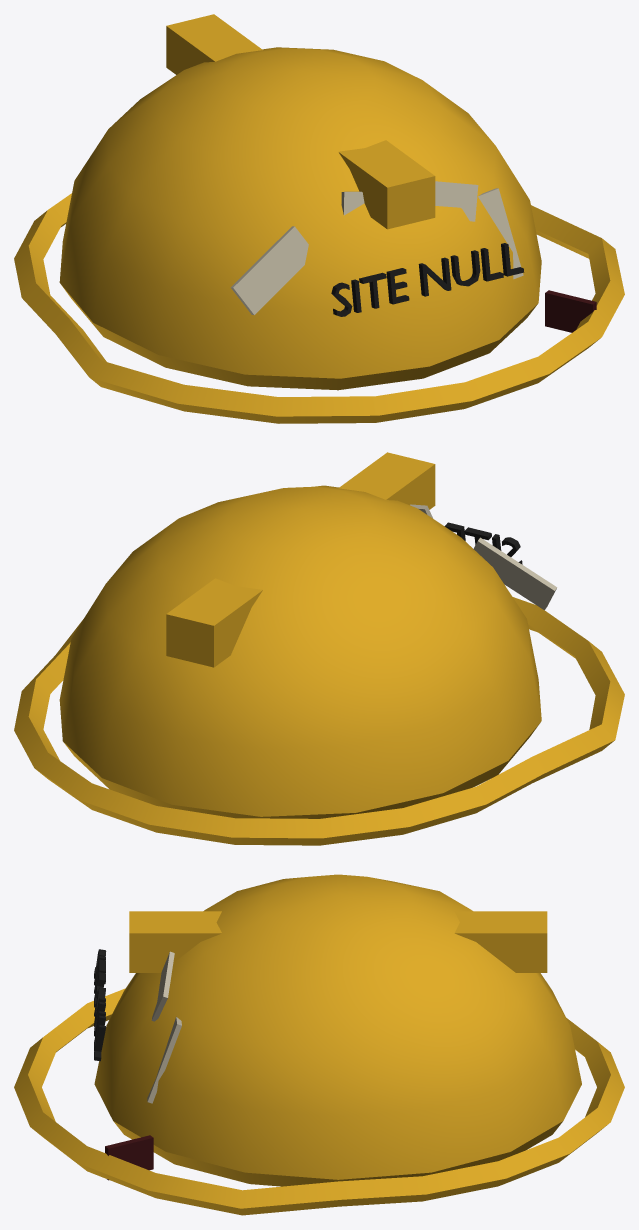
File: hat_hardhat.glb
The picture shows the model from 3 angles, top to bottom: view 1: azimuth 30°, elevation 25°; view 2: azimuth 150°, elevation 25°; view 3: azimuth 270°, elevation 25°; orthographic projection. The views are drawn at different scales.
Visible parts, largest first — view 1: hat_hardhat; view 2: hat_hardhat; view 3: hat_hardhat.
Boxes of the visible parts, left/top/right/bottom form: hat_hardhat: left=14, top=14, right=624, bottom=423; hat_hardhat: left=14, top=452, right=624, bottom=845; hat_hardhat: left=14, top=874, right=624, bottom=1215.
Size of the model in its own units: 0.3298 by 0.13 by 0.3508.
